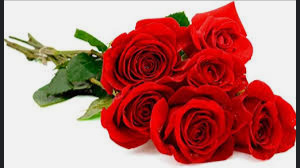RedRose: (102, 8, 181, 86), (102, 76, 177, 151), (167, 88, 240, 161), (235, 77, 296, 162), (175, 1, 257, 63), (177, 40, 248, 96)
